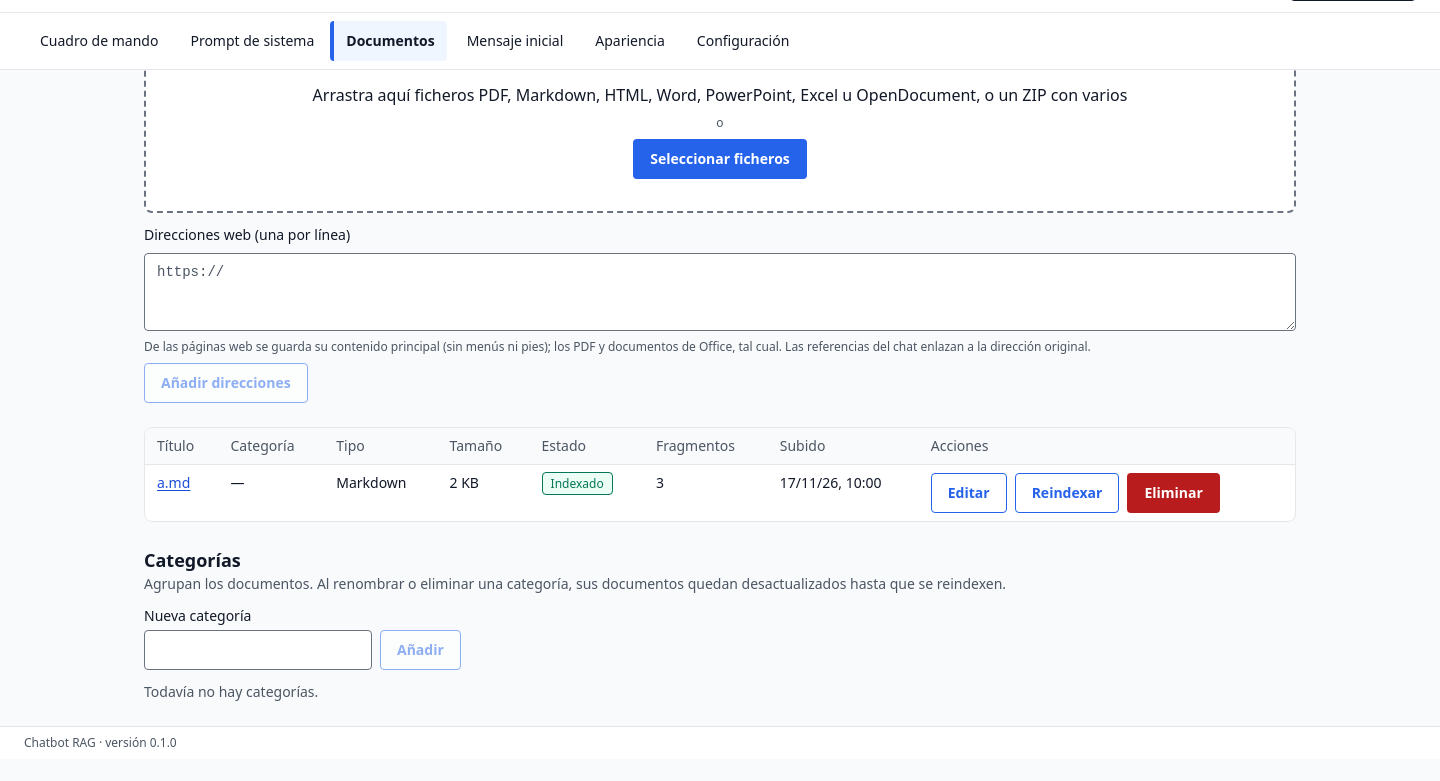
Test: DocumentsPage › muestra errores de carga y de acciones
(page scrolled)
Click the button with aria-label "Eliminar: a.md" at (1174, 493), box [1127,473,1220,513]
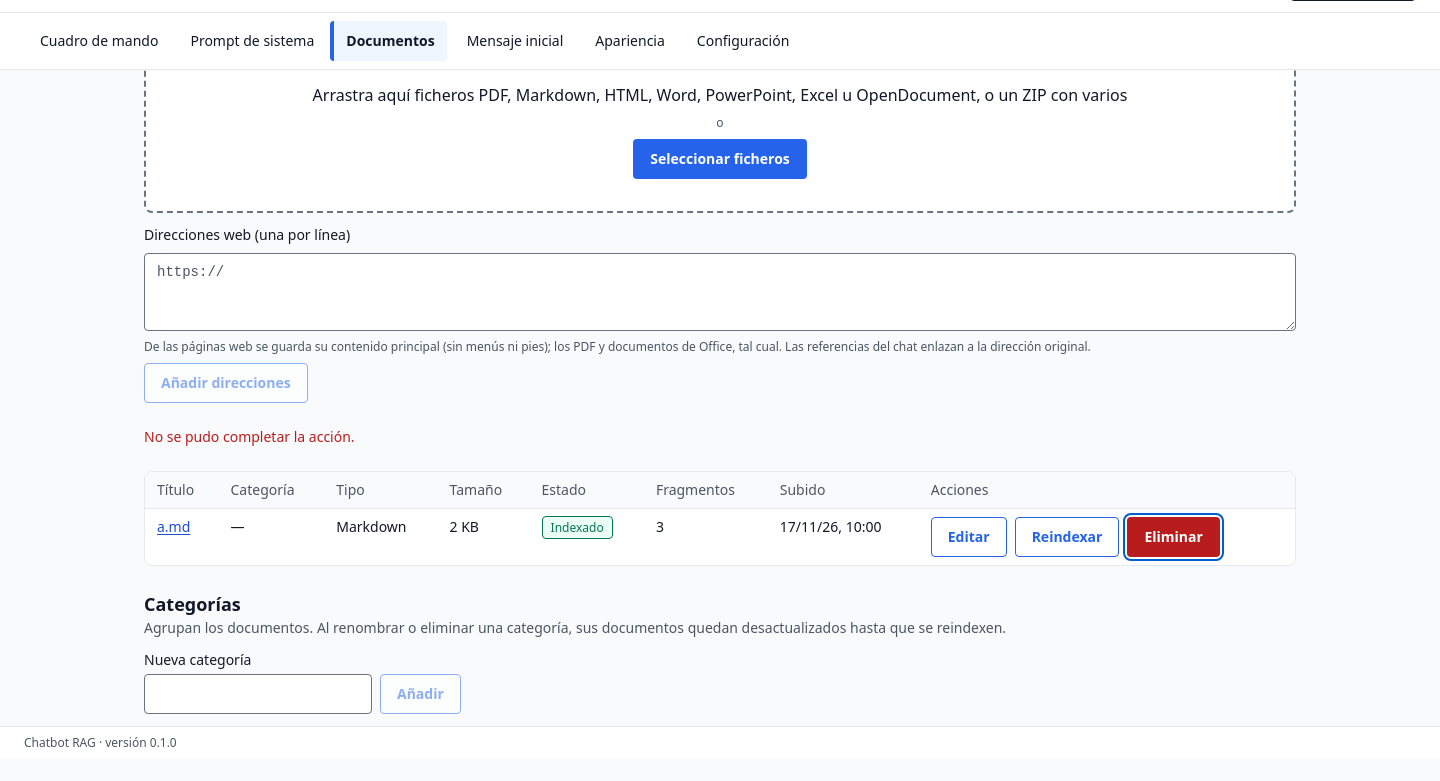
Expected: the message reads "No se pudo completar la acción.", [144,427,355,446]
